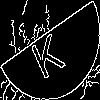K: (25, 24, 66, 81)
